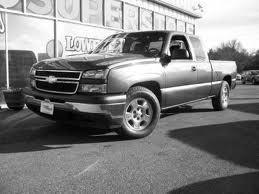car: (23, 31, 238, 140)
